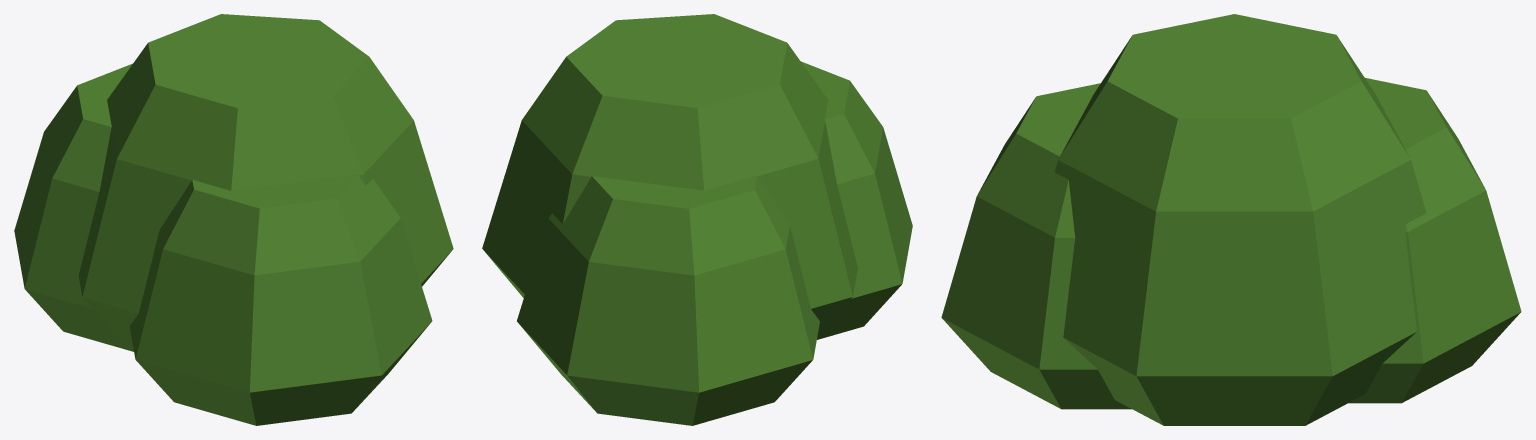
The model's file is bush_a.glb.
3 renders of one model, left to right at view 1: azimuth 30°, elevation 25°; view 2: azimuth 150°, elevation 25°; view 3: azimuth 270°, elevation 25°, orthographic. The views are drawn at different scales.
Parts seen in each view (by area): view 1: bush_a; view 2: bush_a; view 3: bush_a.
Part boxes in pixels (bbox=[...]): bush_a: bbox=[14, 14, 453, 425]; bush_a: bbox=[482, 14, 912, 425]; bush_a: bbox=[941, 14, 1521, 425].
Size of the model in its own units: 0.2032 by 0.1566 by 0.2667.
